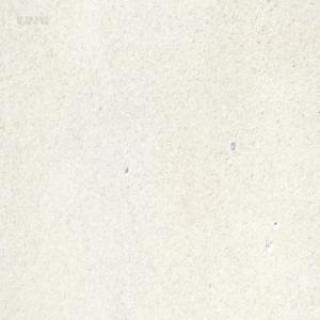Washertrack_idkeyframe: (229, 140, 234, 150)
